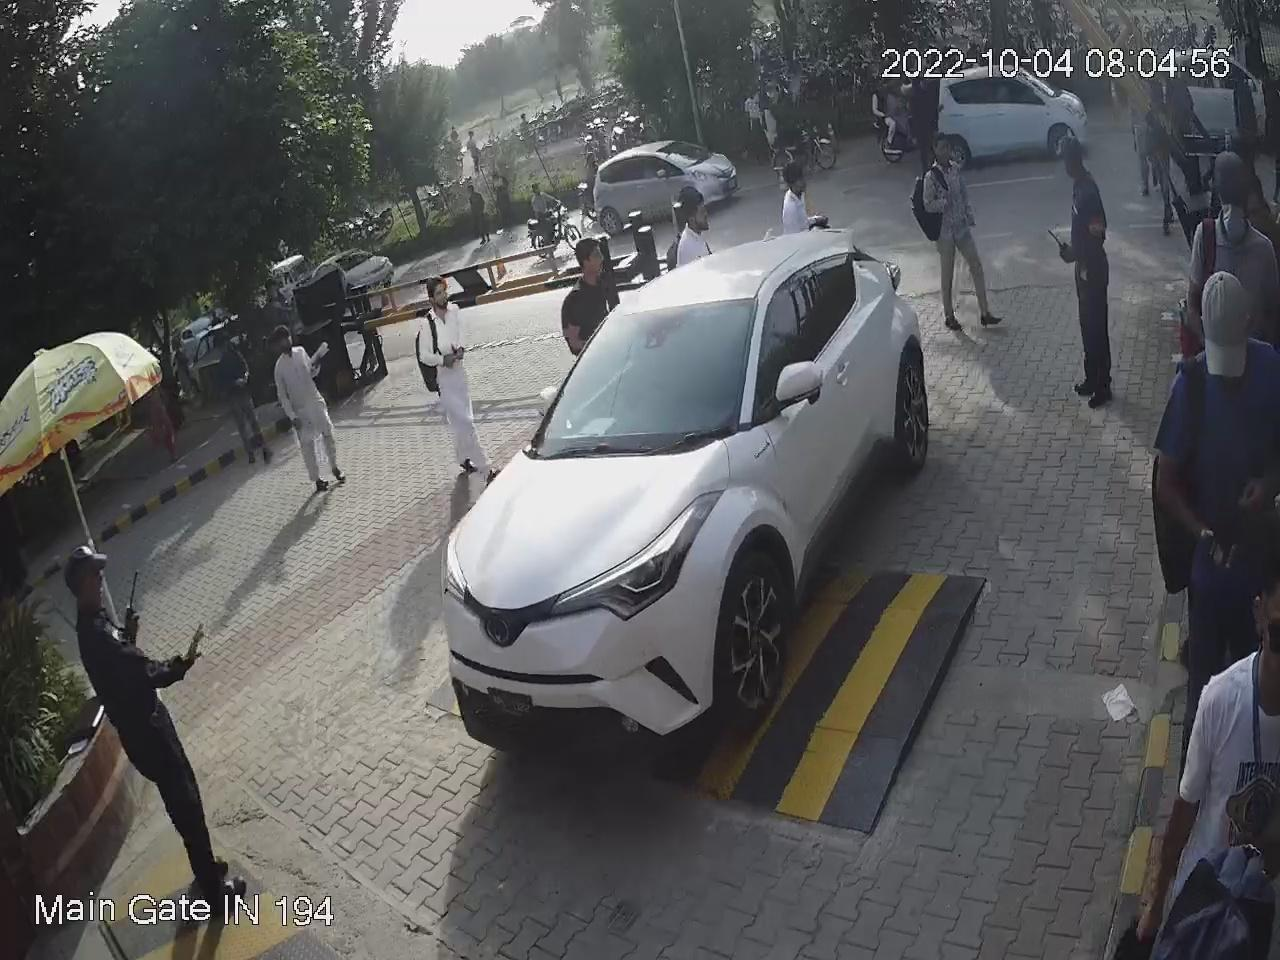windshield: (523, 285, 765, 450)
